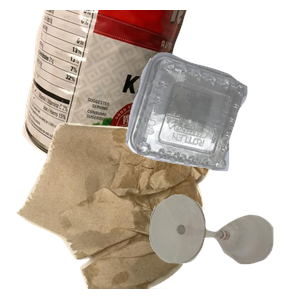glass: (147, 192, 300, 300)
metal: (20, 10, 199, 172)
plastic: (123, 50, 300, 214)
trash: (14, 120, 222, 300)
